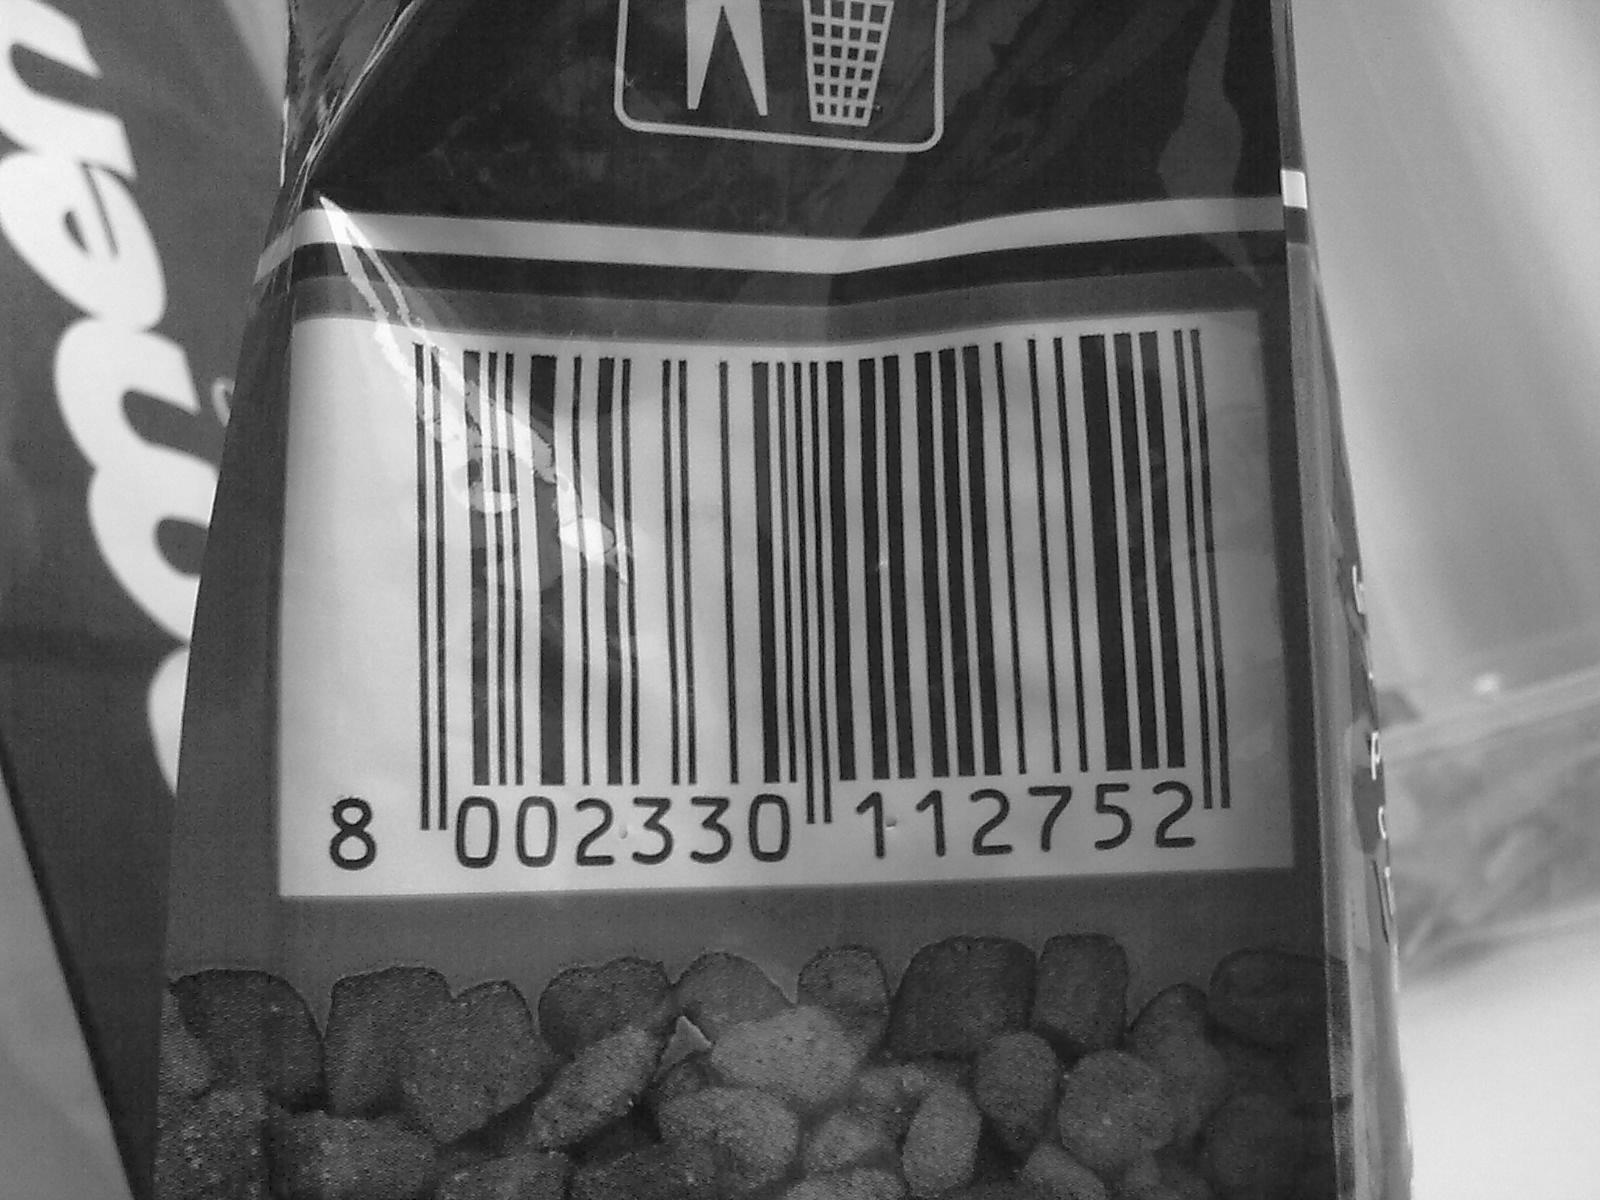Barcode: (336, 305, 1250, 821)
